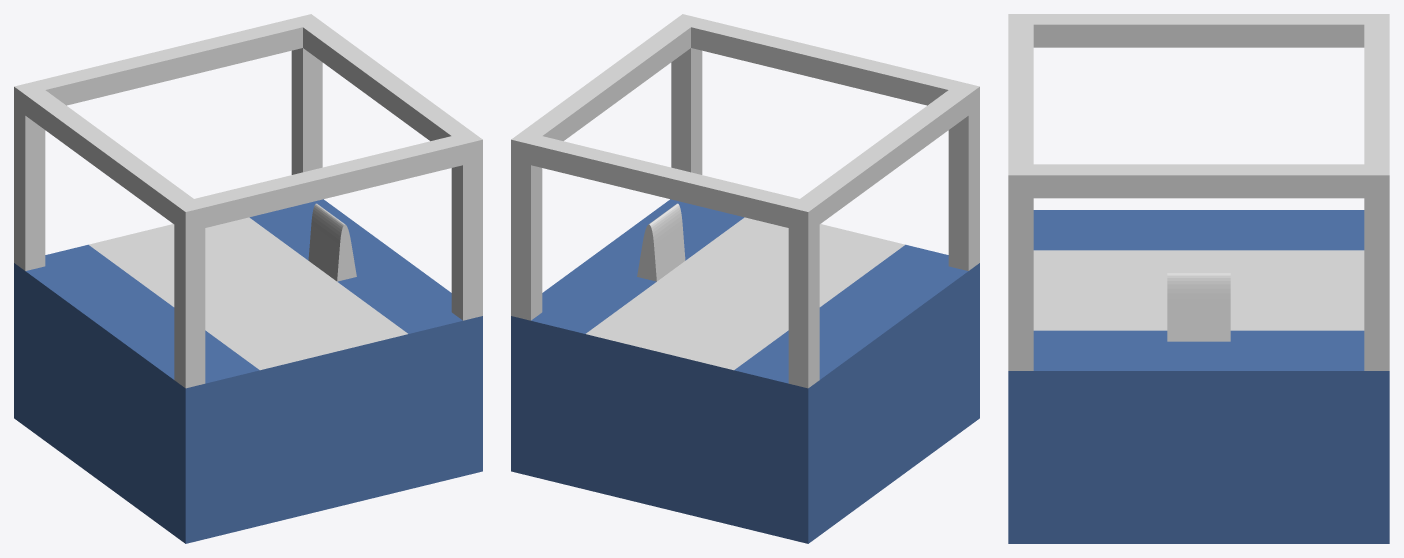
3 renders of one model, left to right at view 1: azimuth 30°, elevation 25°; view 2: azimuth 150°, elevation 25°; view 3: azimuth 270°, elevation 25°, orthographic. The views are drawn at different scales.
Parts seen in each view (by area): view 1: 立方体, 立方体.001; view 2: 立方体, 立方体.001; view 3: 立方体, 立方体.001.
Part boxes in pixels (bbox=[...]): 立方体: bbox=[14, 14, 482, 543]; 立方体.001: bbox=[308, 203, 356, 281]; 立方体: bbox=[511, 14, 979, 543]; 立方体.001: bbox=[637, 203, 685, 281]; 立方体: bbox=[1008, 14, 1389, 543]; 立方体.001: bbox=[1167, 273, 1230, 341].
Size of the model in its own units: 300 by 320 by 300.
